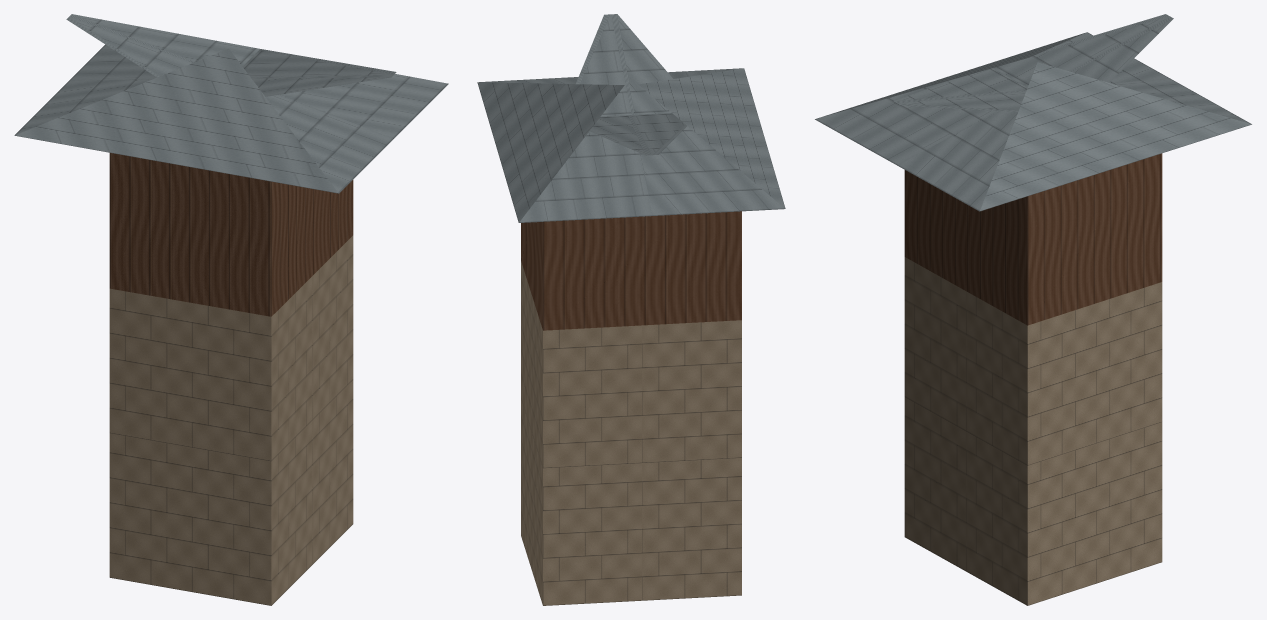
The model's file is bld_c18_28_381.gltf.
3 renders of one model, left to right at view 1: azimuth 30°, elevation 25°; view 2: azimuth 150°, elevation 25°; view 3: azimuth 270°, elevation 25°, orthographic. The views are drawn at different scales.
Visible parts, largest first — view 1: bld_c18_28_381; view 2: bld_c18_28_381; view 3: bld_c18_28_381.
Part boxes in pixels (x1=…): bld_c18_28_381: x1=14, y1=14, x2=448, y2=605; bld_c18_28_381: x1=477, y1=14, x2=785, y2=605; bld_c18_28_381: x1=815, y1=14, x2=1251, y2=605.
Size of the model in its own units: 6.21 by 7.9 by 6.4.
Materials: 3 (3 with a texture image).
